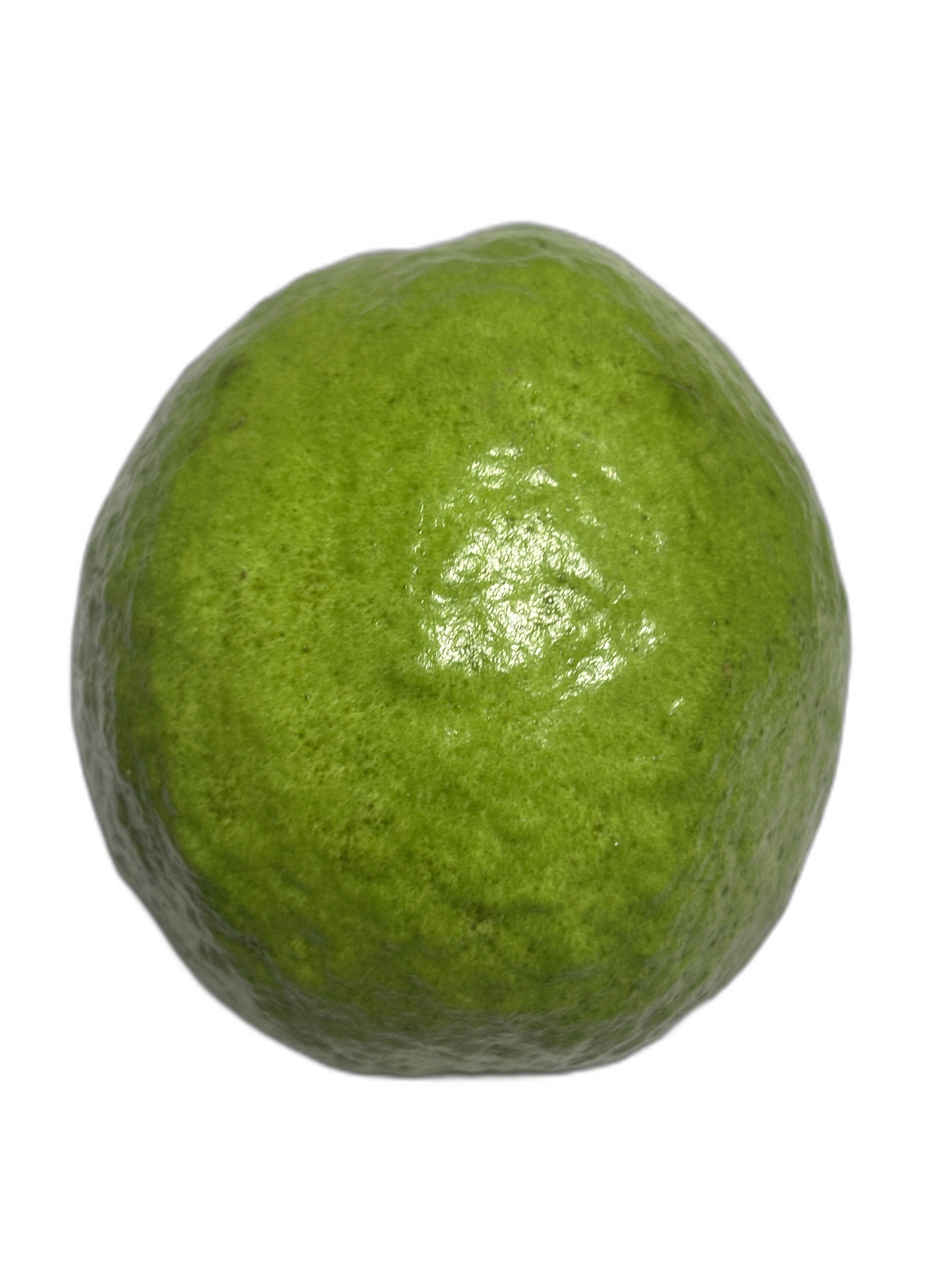guava: (150, 107, 880, 1142)
